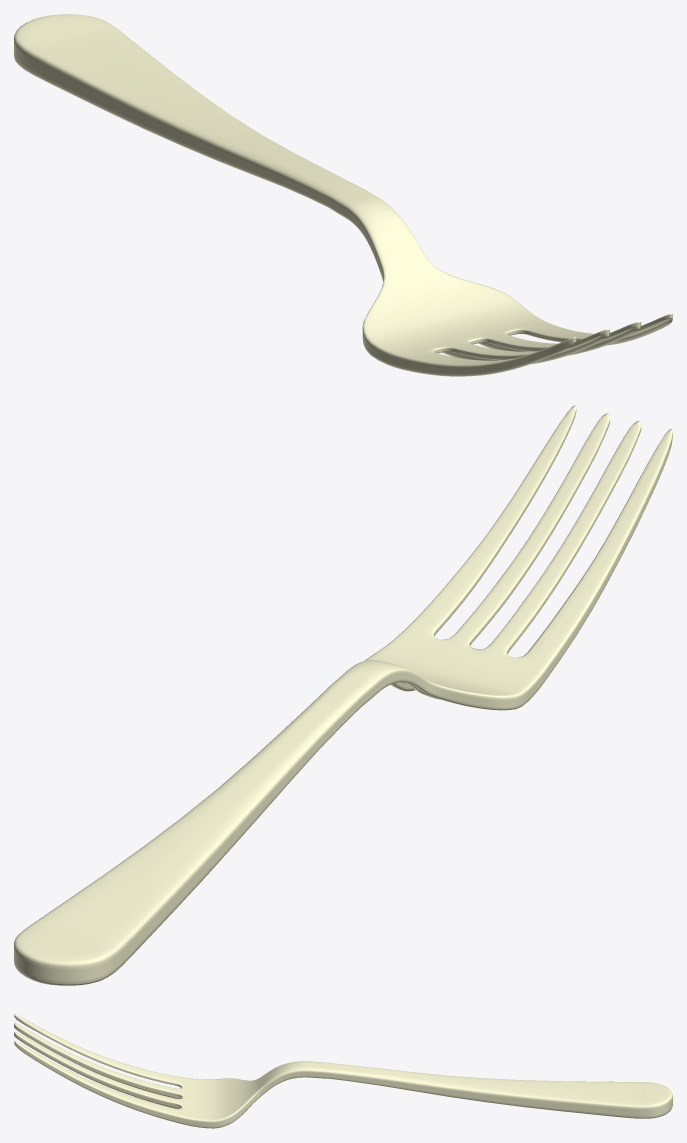
3 renders of one model, top to bottom at view 1: azimuth 30°, elevation 25°; view 2: azimuth 150°, elevation 25°; view 3: azimuth 270°, elevation 25°, orthographic. The views are drawn at different scales.
Visible parts, largest first — view 1: Ivory_Fork:Ivory_Fork; view 2: Ivory_Fork:Ivory_Fork; view 3: Ivory_Fork:Ivory_Fork.
Boxes of the visible parts, box(x1,y1,x2,y2) form: Ivory_Fork:Ivory_Fork: box(14, 14, 672, 376); Ivory_Fork:Ivory_Fork: box(14, 405, 672, 985); Ivory_Fork:Ivory_Fork: box(14, 1014, 672, 1128).
Size of the model in its own units: 0.0268 by 0.0238 by 0.1772.
1 material, 1 textured.
